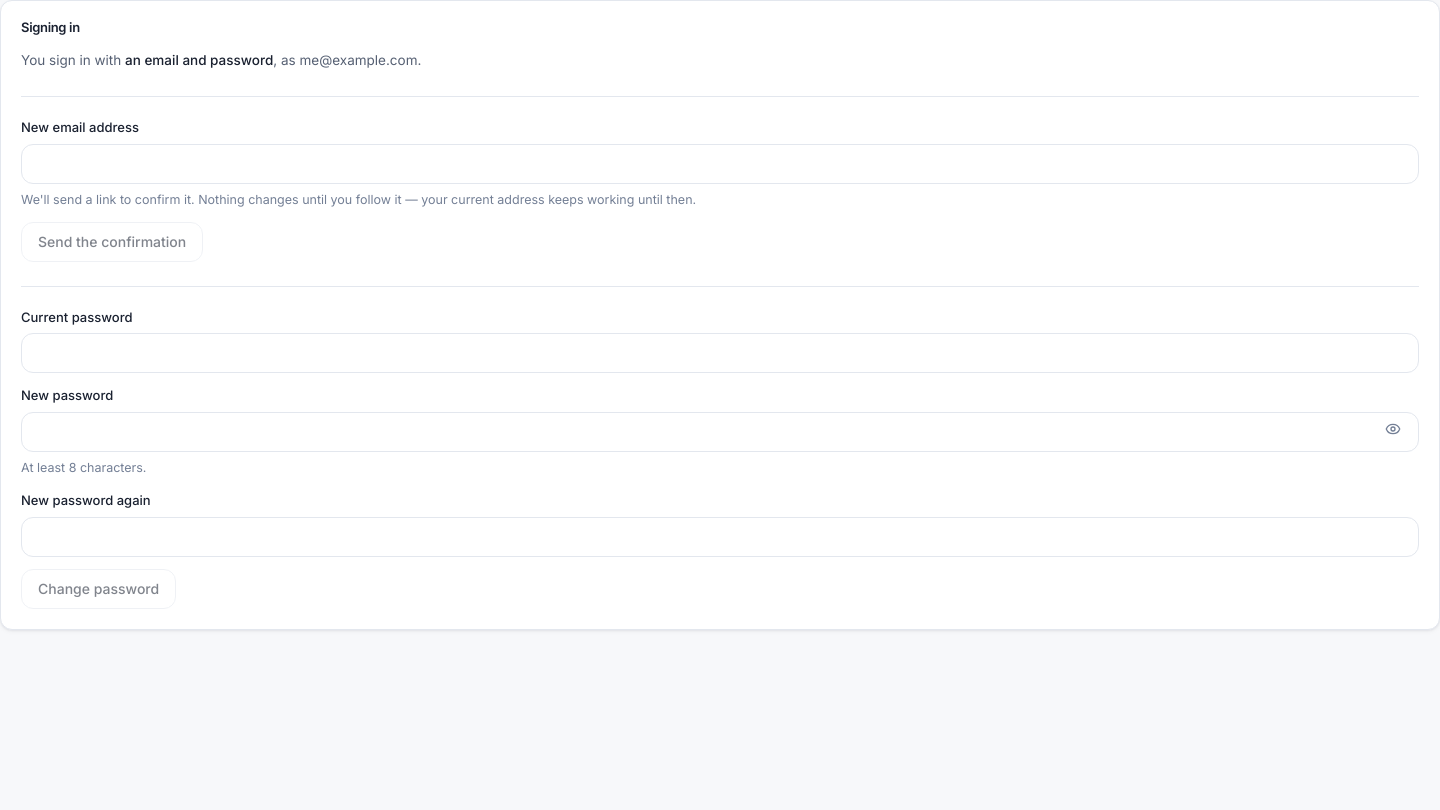
changing the password › sets it once the current one checks out
In the password field labelled "Current password": (720, 353) [21,333,1419,373], type "right-one"
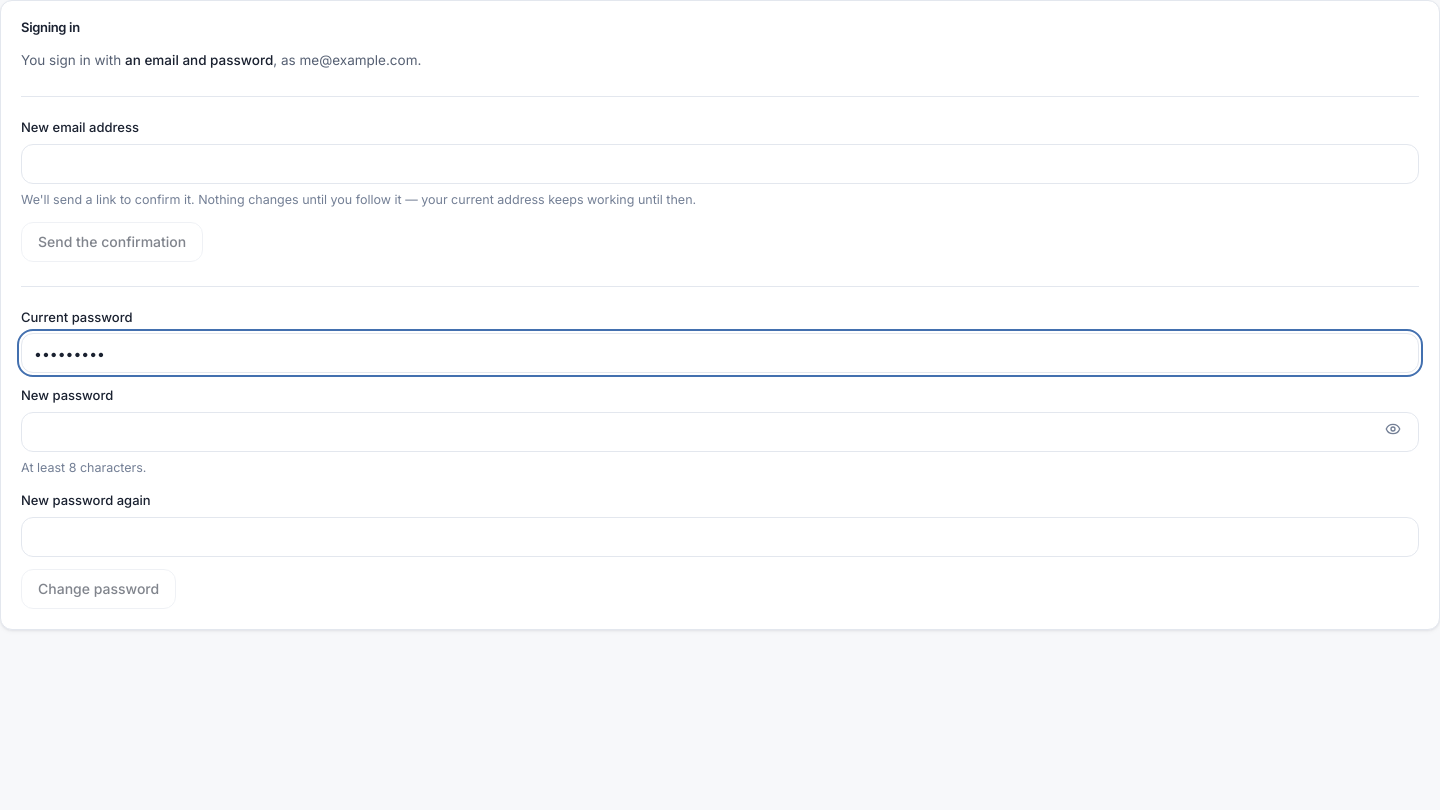
In the password field labelled "New password": (720, 432) [21,412,1419,452], type "a-good-long-one"
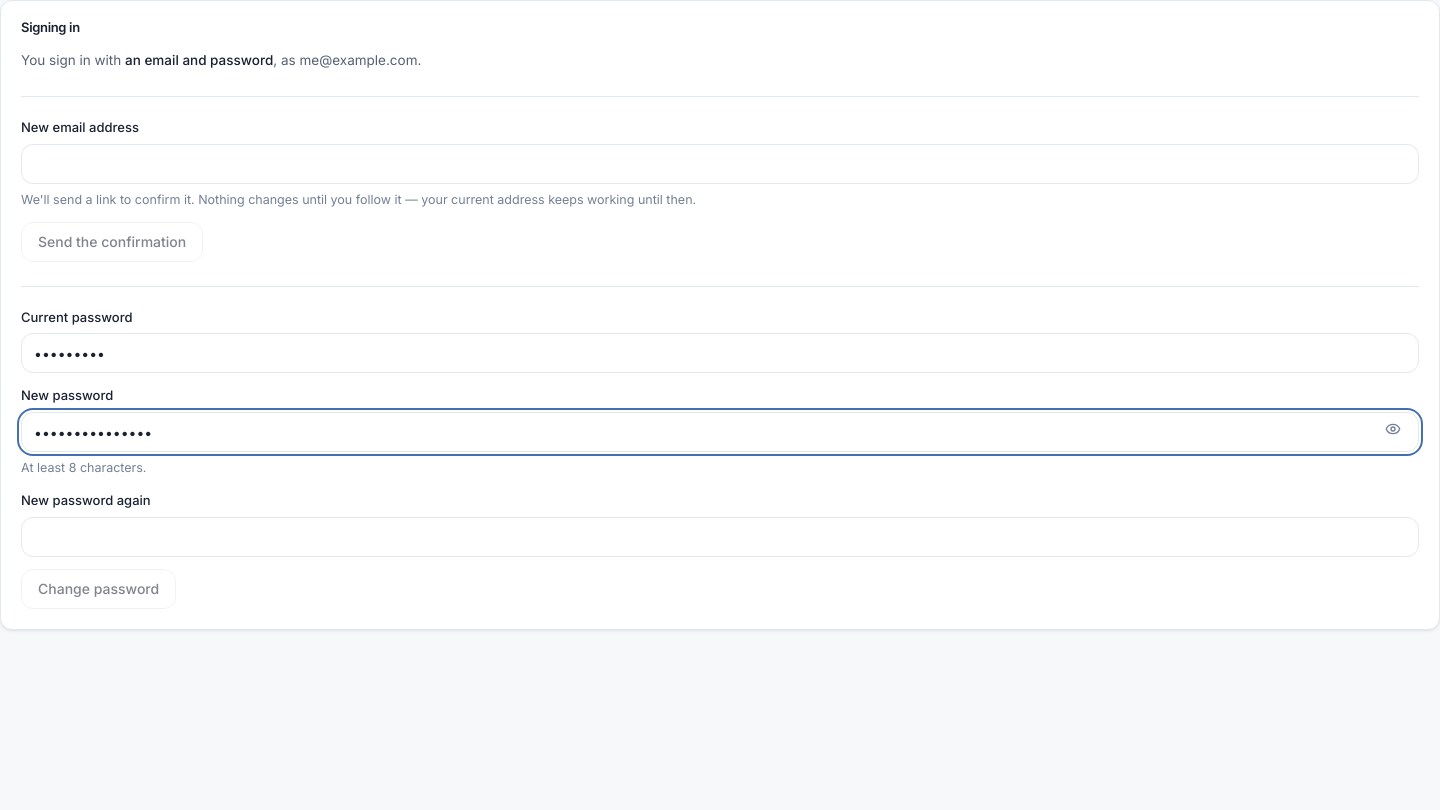
In the password field labelled "New password again": (720, 537) [21,517,1419,557], type "a-good-long-one"
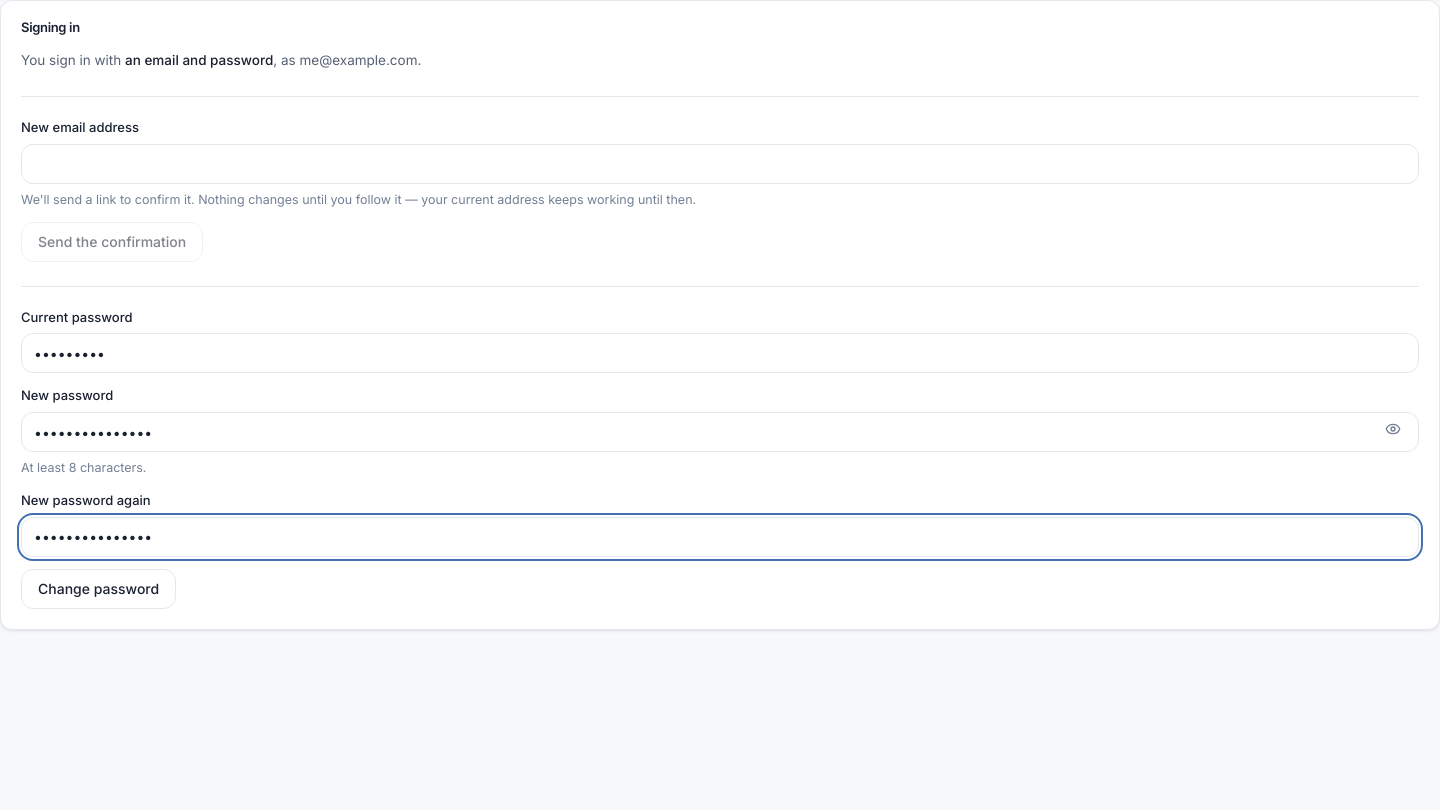
Click the button "Change password": (99, 589) [21,569,176,609]
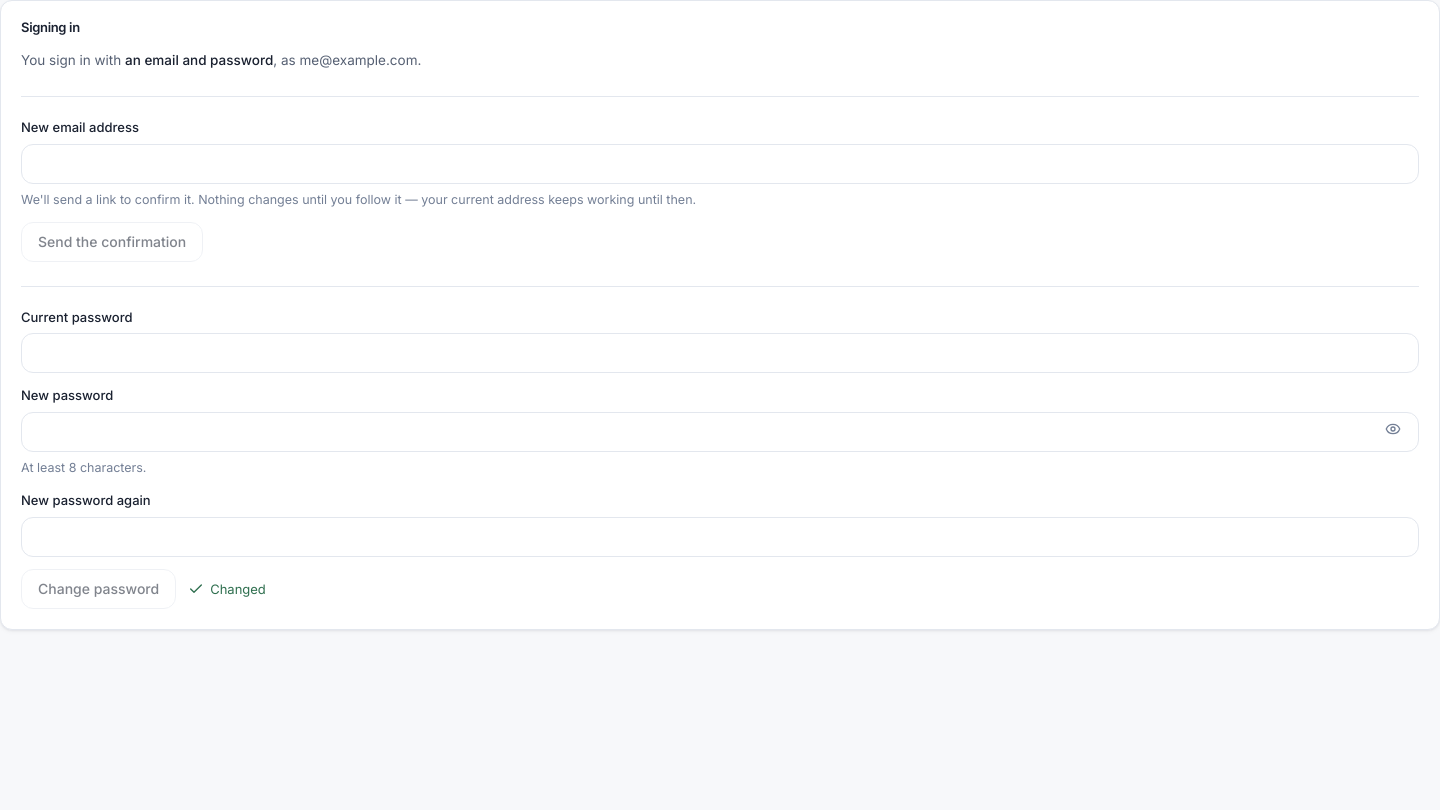
Expected: the text "Changed" is shown, [188,578,266,599]
